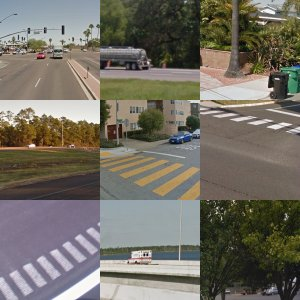汽車: (200, 235, 231, 280), (115, 74, 168, 91), (239, 143, 267, 156)
消防栓: (36, 9, 78, 81), (125, 123, 167, 190), (37, 235, 78, 290)
紅綠燈: (112, 40, 161, 64), (249, 104, 294, 122)
自行車: (199, 1, 290, 82)
高山或山丘: (99, 238, 200, 274)
